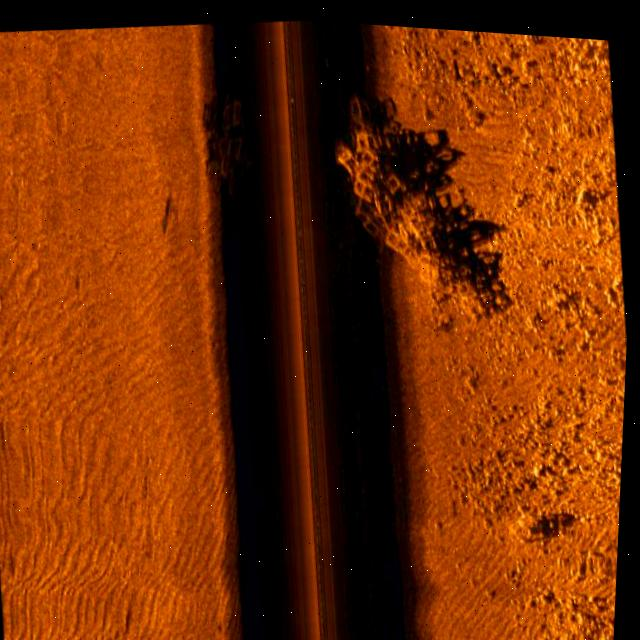artificial reef: (308, 79, 525, 346), (191, 81, 260, 192)
